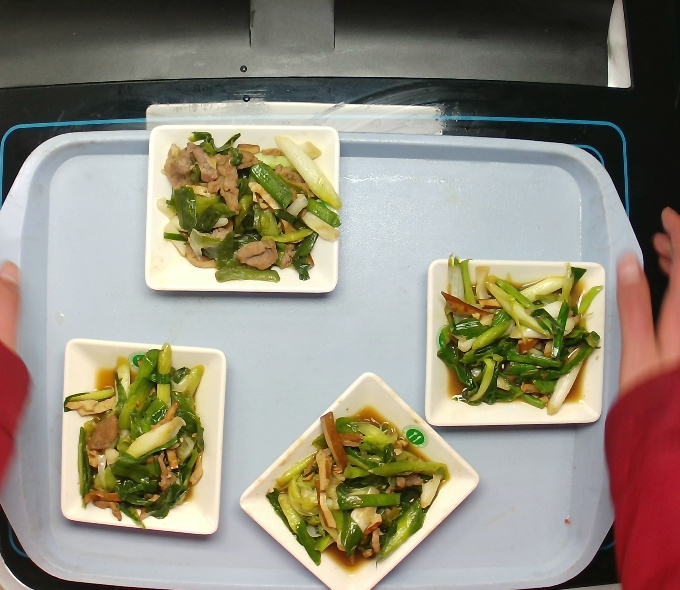wcq-SuanYeChaoRou: (259, 398, 453, 582), (152, 123, 344, 293), (56, 339, 211, 533), (432, 251, 609, 420)
